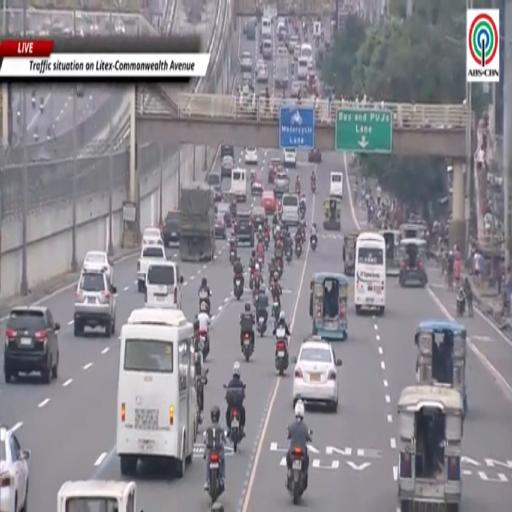bus: (116, 308, 197, 477), (355, 232, 386, 314)
car: (4, 307, 59, 383), (292, 336, 341, 411), (74, 271, 116, 337), (0, 425, 30, 511), (83, 251, 113, 281), (234, 212, 254, 247), (162, 211, 179, 247), (206, 172, 222, 201), (216, 202, 232, 228), (268, 157, 282, 184), (274, 171, 289, 195), (261, 190, 276, 214), (143, 228, 163, 245), (252, 206, 266, 229), (221, 155, 234, 178), (251, 171, 263, 195), (215, 213, 226, 238), (259, 34, 272, 53), (283, 149, 296, 168), (256, 63, 268, 83), (240, 52, 252, 72), (245, 148, 258, 165), (291, 80, 303, 98), (242, 71, 253, 90), (288, 35, 299, 54), (245, 21, 256, 40), (277, 23, 288, 41), (221, 144, 234, 157), (309, 149, 321, 163), (277, 45, 288, 56), (294, 43, 300, 60)
jeepney: (397, 386, 463, 511), (415, 319, 467, 413), (57, 480, 143, 511), (310, 272, 348, 340), (399, 238, 427, 286), (379, 230, 400, 276), (343, 232, 359, 276), (323, 197, 341, 231), (399, 222, 426, 238)
motorcycle: (287, 447, 305, 505), (209, 452, 224, 503), (275, 328, 289, 376), (195, 374, 206, 424), (229, 407, 241, 452), (242, 332, 253, 361), (200, 330, 209, 361), (234, 275, 243, 300), (257, 315, 266, 337), (457, 293, 465, 316), (200, 298, 210, 315), (273, 298, 280, 321), (276, 258, 283, 279), (285, 246, 292, 264), (310, 234, 317, 251), (300, 227, 306, 245), (295, 244, 302, 259), (253, 288, 258, 308), (264, 231, 269, 250), (257, 255, 264, 268), (230, 249, 236, 264), (250, 268, 254, 290), (300, 203, 305, 219), (295, 183, 300, 196), (311, 180, 315, 194)
truck: (180, 182, 215, 262), (275, 55, 290, 89)
